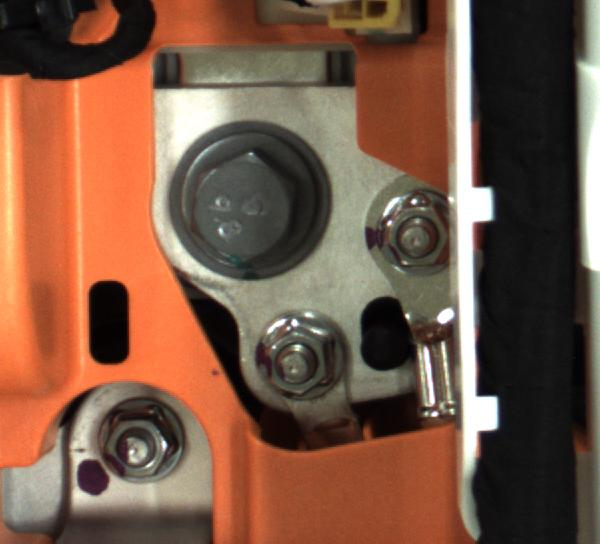nut_b: (162, 116, 332, 278)
screw_s: (375, 186, 472, 288), (91, 400, 192, 490), (265, 314, 342, 404)
